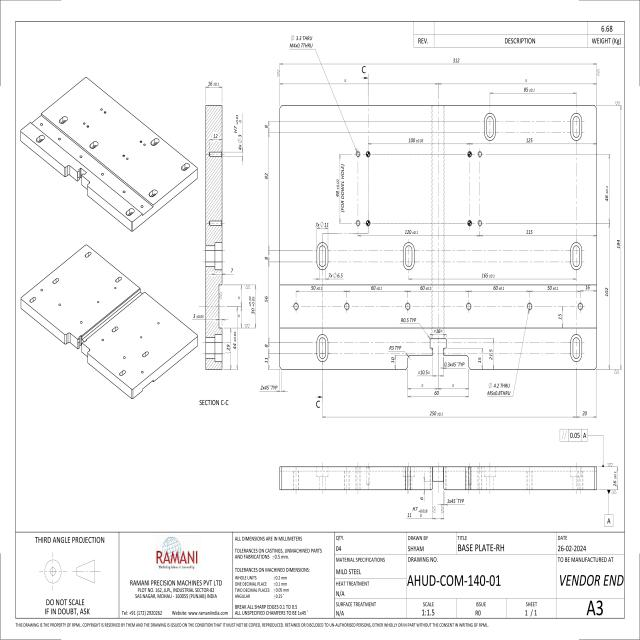dimension: (279, 58, 598, 70), (321, 409, 578, 420), (366, 135, 474, 153), (615, 101, 622, 375), (489, 85, 577, 105), (407, 272, 578, 282), (467, 137, 598, 147), (357, 228, 481, 238), (604, 222, 612, 371), (478, 228, 597, 238), (232, 284, 243, 369), (263, 123, 270, 252), (334, 153, 345, 225), (405, 504, 445, 522), (232, 111, 244, 166), (345, 284, 410, 294), (466, 284, 531, 294), (406, 389, 469, 399), (408, 284, 470, 294), (264, 261, 271, 343), (604, 153, 612, 224), (294, 284, 350, 294), (527, 284, 579, 294), (486, 381, 514, 397), (289, 34, 315, 50), (204, 80, 223, 101), (192, 312, 226, 323), (249, 283, 257, 329), (417, 369, 445, 380), (260, 384, 289, 394), (488, 337, 496, 371), (574, 409, 598, 420), (225, 327, 231, 370), (400, 316, 425, 326), (418, 474, 426, 503), (316, 221, 332, 235), (442, 361, 466, 370), (577, 284, 598, 294), (557, 305, 565, 330), (446, 497, 466, 507), (429, 327, 447, 338), (388, 344, 406, 354), (325, 272, 344, 281), (209, 131, 223, 143), (478, 346, 484, 371), (612, 467, 618, 491), (390, 355, 398, 371), (264, 354, 271, 371), (222, 267, 235, 276), (264, 120, 271, 134), (264, 251, 271, 263), (264, 342, 271, 354)
